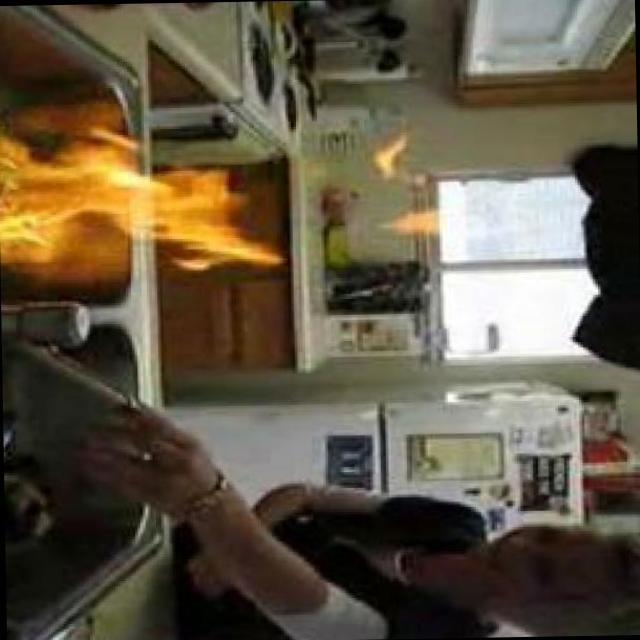Fire: (1, 121, 287, 286), (361, 128, 450, 254)
